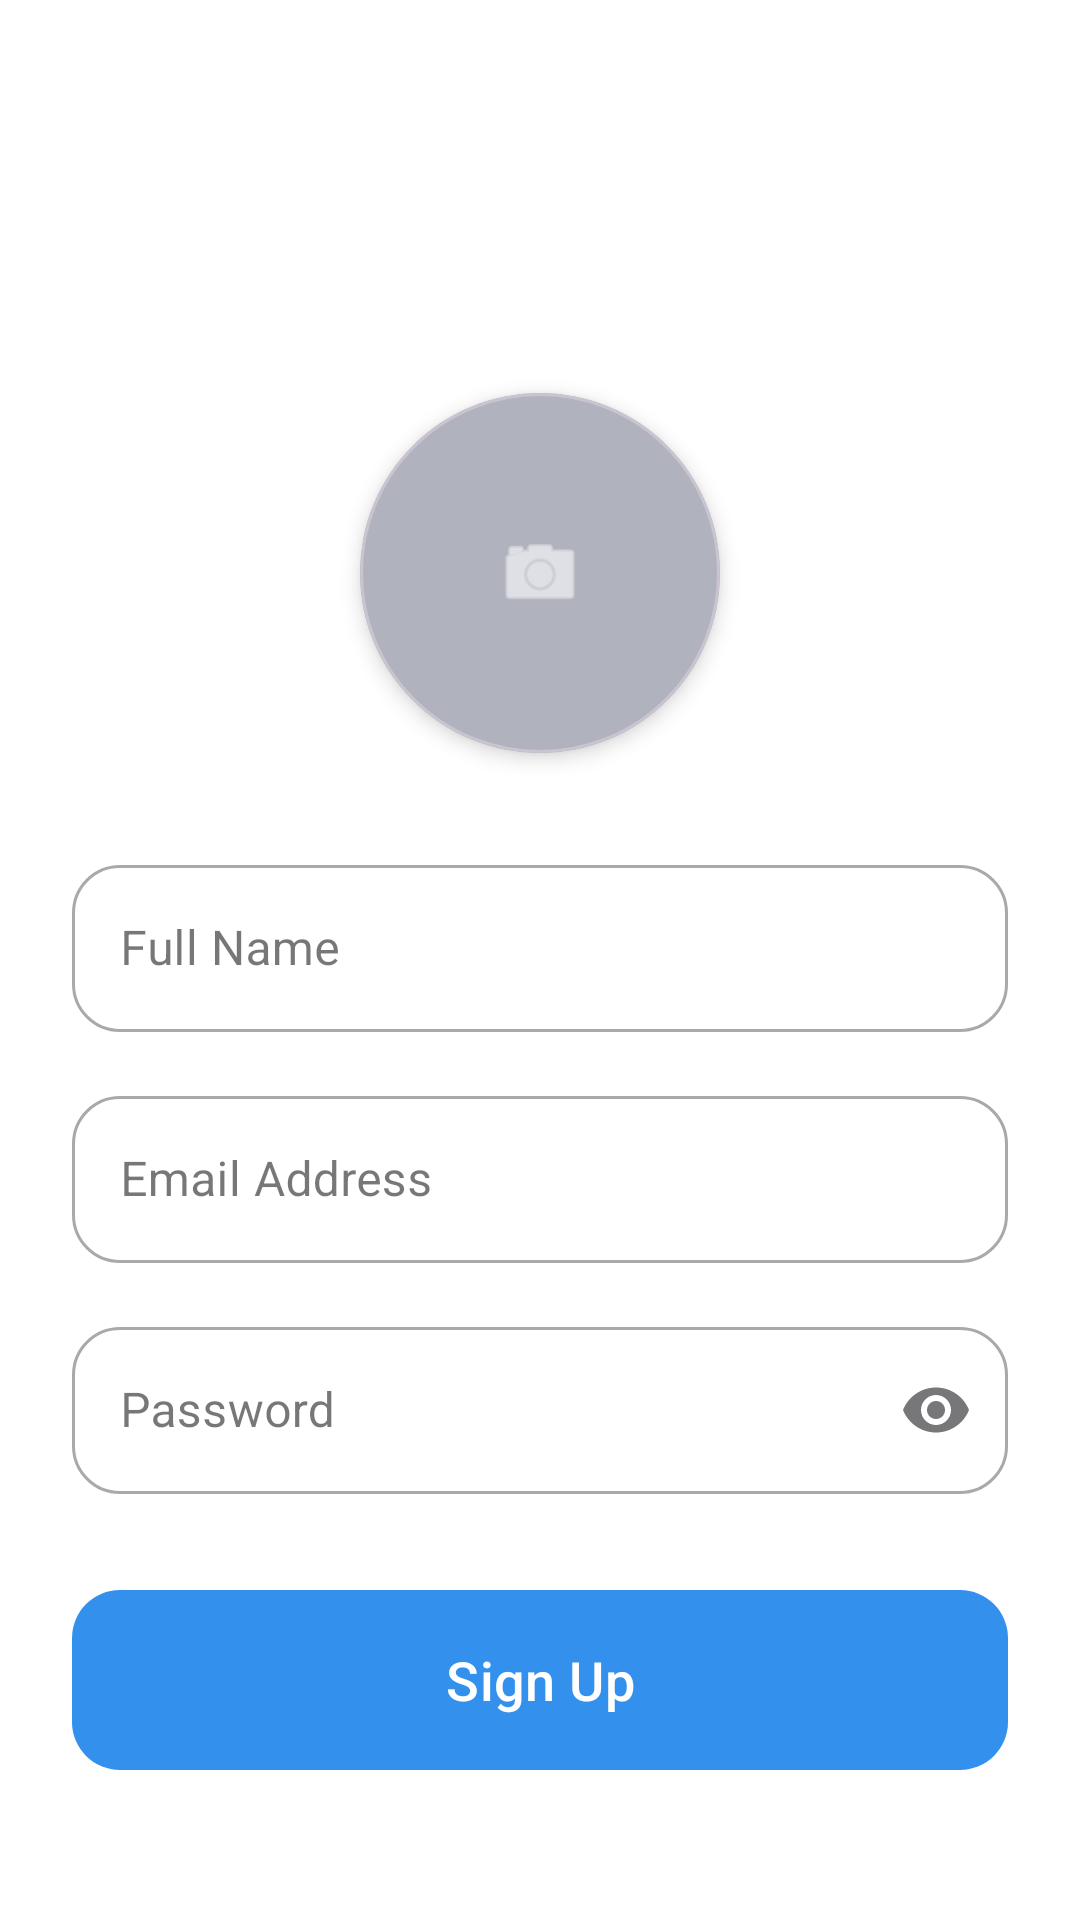

Icon click points for this 1080*1920 phone screenshot, format [x,y]:
camera: [540,571]
